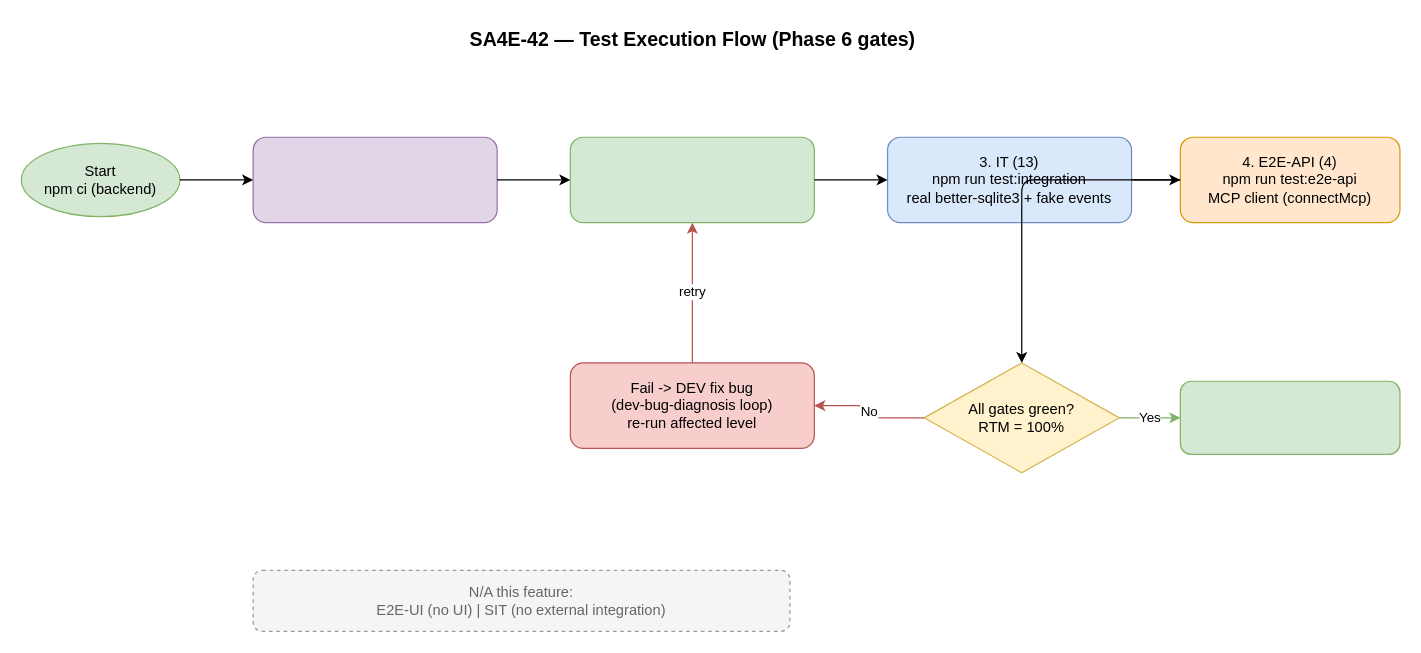
This 1421x653 diagram has some shape labels left out. Here are the shapes that lost their labels. From the top down, the box of each, then its label:
(252, 136, 497, 223): 1. PBT npm run test:unit (fast-check) idempotency / scope / prune / injection
(569, 136, 814, 223): 2. UT (32) npm run test:unit classes in isolation (fakes)
(1179, 380, 1400, 454): TEST-REPORT + attach to Jira (Phase 6 exit)
